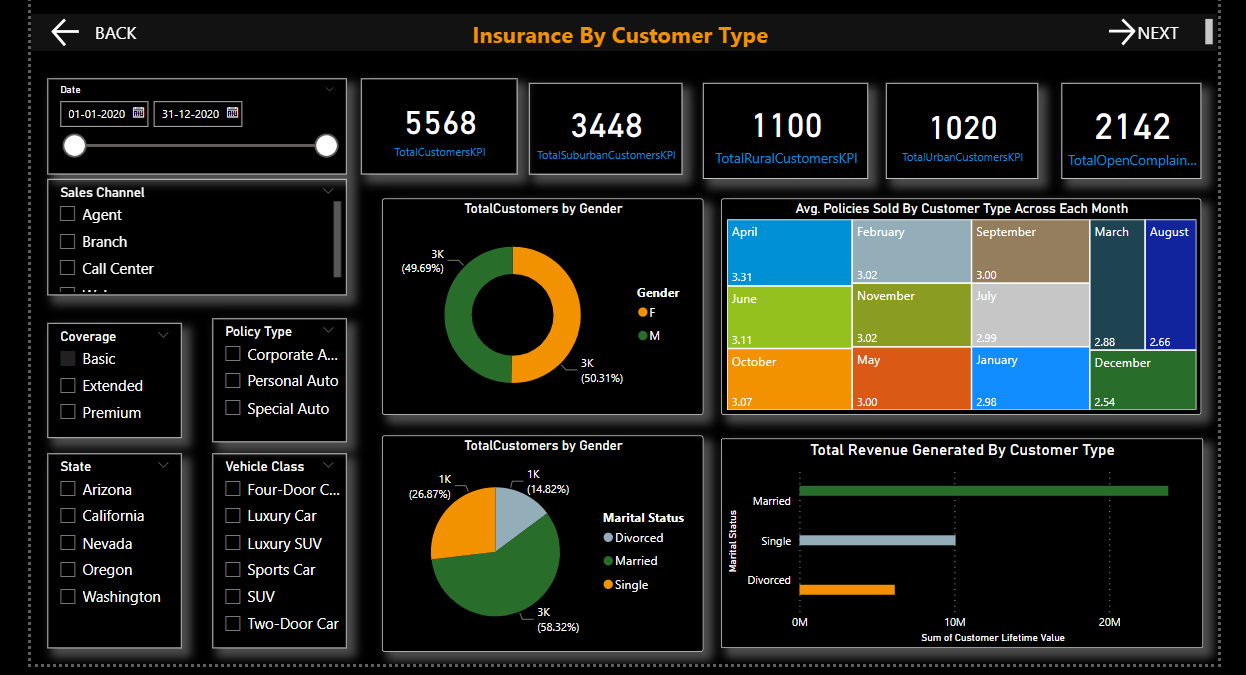

Layout of this report page (visuals, bound fields, positions):
{"tool":"powerbi","page":{"name":"Insurance By Customer Type","canvas":[1280,720],"ordinal":2},"visuals":[{"type":"textbox","box":[0,19.1,1279.5,39.7],"z":0},{"type":"card","fields":{"Values":["AutoInsurance.TotalCustomersKPI"]},"box":[356,89,168.5,103.3],"z":1000},{"type":"card","fields":{"Values":["AutoInsurance.TotalSuburbanCustomersKPI"]},"box":[537.2,93.8,165.3,98.5],"z":2000},{"type":"card","fields":{"Values":["AutoInsurance.TotalRuralCustomersKPI"]},"box":[724.8,93.8,178,103.3],"z":3000},{"type":"card","fields":{"Values":["AutoInsurance.TotalUrbanCustomersKPI"]},"box":[921.9,93.8,163.7,103.3],"z":4000},{"type":"card","fields":{"Values":["AutoInsurance.TotalOpenComplaintsKPI"]},"box":[1111,93.8,151,103.3],"z":5000},{"type":"donutChart","title":"TotalCustomers  by Gender","fields":{"Y":["AutoInsurance.TotalCustomersKPI"],"Series":["AutoInsurance.Gender"]},"box":[378.3,217.7,346.5,233.6],"z":6000},{"type":"treemap","title":"Avg. Policies Sold By Customer Type Across Each Month","fields":{"Group":["Date_Table.Month Name"],"Values":["AutoInsurance.AveragePoliciesSoldKPI"]},"box":[743.8,217.7,518.1,233.6],"z":7000},{"type":"clusteredBarChart","title":"Total Revenue Generated By Customer Type","fields":{"Category":["AutoInsurance.Marital Status"],"Y":["Sum(AutoInsurance.Customer Lifetime Value)"],"Series":["AutoInsurance.Marital Status"]},"box":[743.8,476.8,519.7,225.7],"z":8000},{"type":"slicer","fields":{"Values":["AutoInsurance.Coverage"]},"box":[17.5,352.8,144.6,124],"z":9000},{"type":"slicer","fields":{"Values":["AutoInsurance.Policy Type"]},"box":[195.5,348.1,144.6,133.5],"z":10000},{"type":"slicer","fields":{"Values":["AutoInsurance.State"]},"box":[17.5,492.7,144.6,209.8],"z":11000},{"type":"slicer","fields":{"Values":["AutoInsurance.Vehicle Class"]},"box":[195.5,492.7,144.6,209.8],"z":12000},{"type":"actionButton","box":[1156.9,19.4,118.1,38.8],"z":13000},{"type":"actionButton","box":[17.5,19.1,100.1,39.7],"z":14000},{"type":"slicer","fields":{"Values":["Date_Table.Date"]},"box":[17.5,89,322.6,103.3],"z":15000},{"type":"slicer","fields":{"Values":["AutoInsurance.Sales Channel"]},"box":[17.5,197.1,322.6,125.6],"z":16000},{"type":"pieChart","title":"TotalCustomers  by Gender","fields":{"Y":["AutoInsurance.TotalCustomersKPI"],"Series":["AutoInsurance.Marital Status"]},"box":[378.3,473.6,346.5,233.6],"z":17000}]}

Visuals, with their boxes on the page's 1280x720 design canvas (x1, y1, x2, y2). These are canvas units, not pixel positions in the 1246x675 screenshot, which may show the page scaled, cropped or inside an application window:
textbox: region(0, 19, 1280, 59)
card - AutoInsurance.TotalCustomersKPI: region(356, 89, 524, 192)
card - AutoInsurance.TotalSuburbanCustomersKPI: region(537, 94, 702, 192)
card - AutoInsurance.TotalRuralCustomersKPI: region(725, 94, 903, 197)
card - AutoInsurance.TotalUrbanCustomersKPI: region(922, 94, 1086, 197)
card - AutoInsurance.TotalOpenComplaintsKPI: region(1111, 94, 1262, 197)
"TotalCustomers  by Gender" donutChart: region(378, 218, 725, 451)
"Avg. Policies Sold By Customer Type Across Each Month" treemap: region(744, 218, 1262, 451)
"Total Revenue Generated By Customer Type" clusteredBarChart: region(744, 477, 1264, 702)
slicer - AutoInsurance.Coverage: region(18, 353, 162, 477)
slicer - AutoInsurance.Policy Type: region(196, 348, 340, 482)
slicer - AutoInsurance.State: region(18, 493, 162, 702)
slicer - AutoInsurance.Vehicle Class: region(196, 493, 340, 702)
actionButton: region(1157, 19, 1275, 58)
actionButton: region(18, 19, 118, 59)
slicer - Date_Table.Date: region(18, 89, 340, 192)
slicer - AutoInsurance.Sales Channel: region(18, 197, 340, 323)
"TotalCustomers  by Gender" pieChart: region(378, 474, 725, 707)
